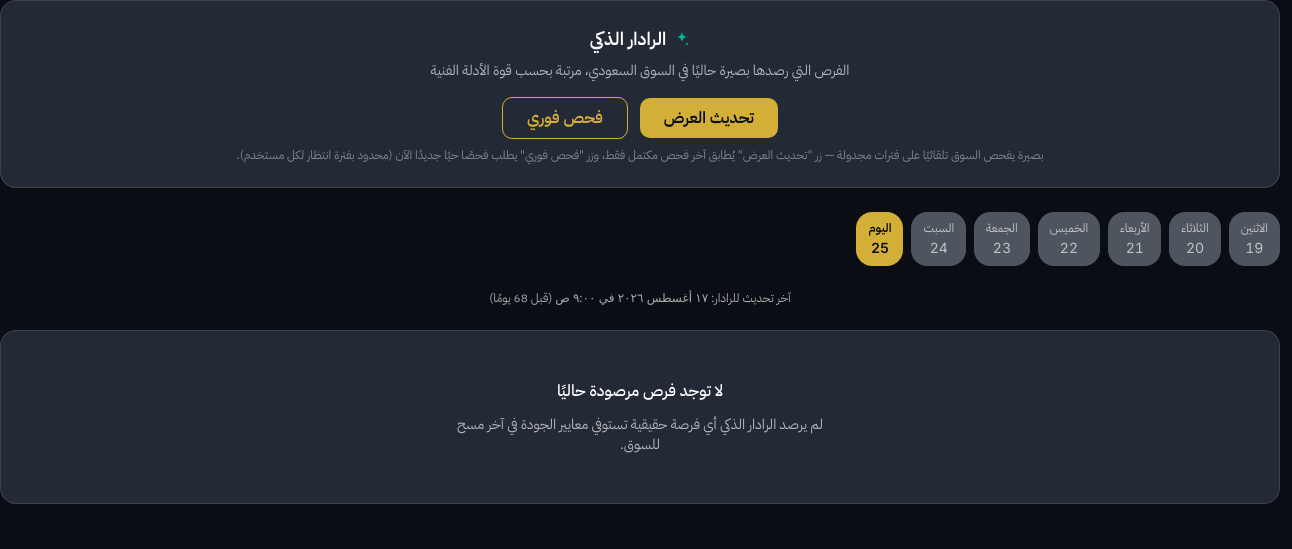
Test: RadarPage › on a cooldown refusal, shows the real reason honestly without refreshing the view
Expected: the text "لا توجد فرص مرصودة حاليًا" is shown, [557, 379, 723, 403]
What coordinates should you click on to do the following:
click the button "فحص فوري"
I would click on:
 (565, 118)
Its box is [502, 97, 628, 139].
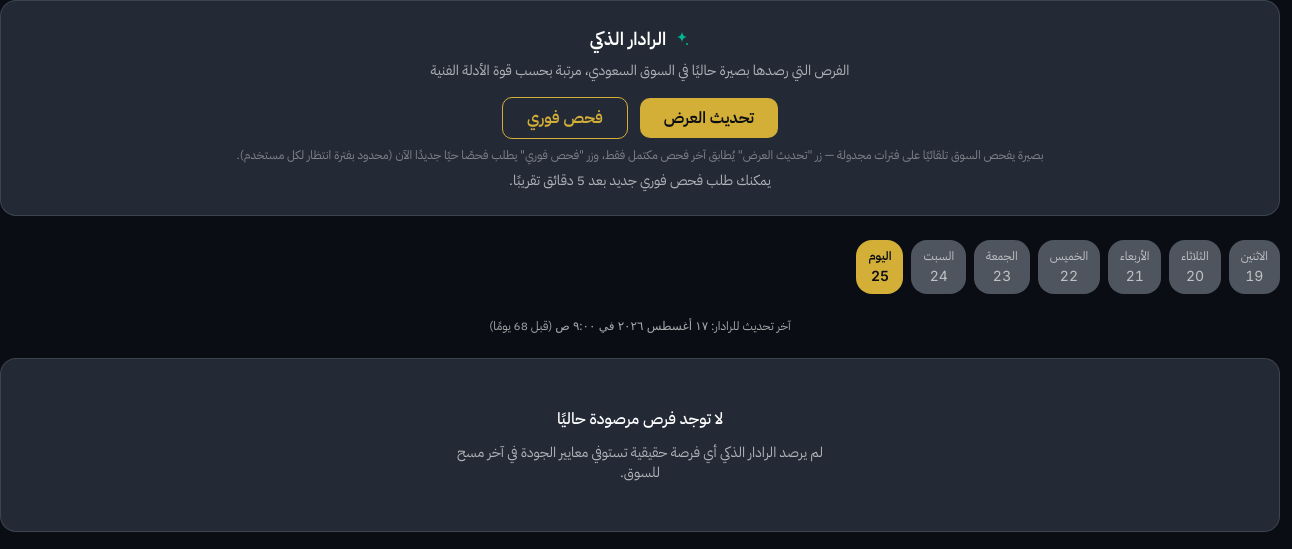
Expected: the text "يمكنك طلب فحص فوري جديد بعد 5 دقائق تقريبًا." is shown, [509, 170, 771, 191]
